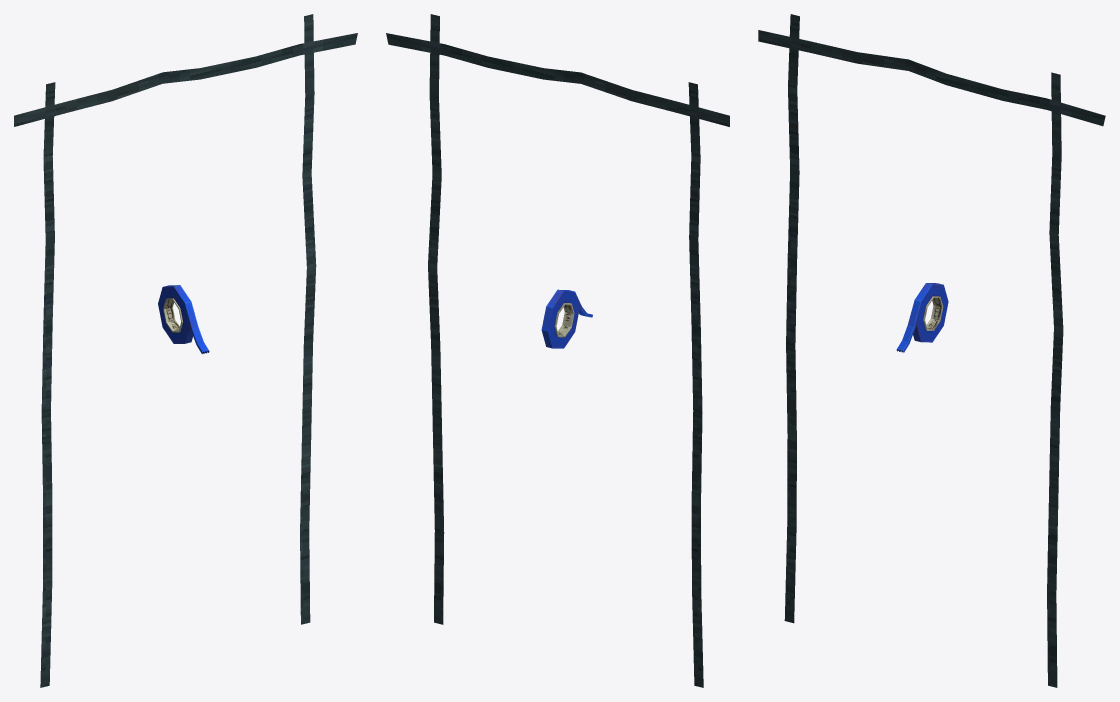
File: item_painters_tape.glb
The picture shows the model from 3 angles, left to right: view 1: azimuth 30°, elevation 25°; view 2: azimuth 150°, elevation 25°; view 3: azimuth 330°, elevation 25°; orthographic projection.
Parts seen in each view (by area): view 1: Plane.003, paintersTape_01; view 2: Plane.003, paintersTape_01; view 3: Plane.003, paintersTape_01.
Part boxes in pixels (x1=…): Plane.003: x1=14, y1=14, x2=357, y2=687; paintersTape_01: x1=158, y1=285, x2=209, y2=354; Plane.003: x1=386, y1=14, x2=729, y2=687; paintersTape_01: x1=541, y1=289, x2=592, y2=348; Plane.003: x1=758, y1=14, x2=1105, y2=687; paintersTape_01: x1=896, y1=283, x2=948, y2=352.
Size of the model in its own units: 1.25 by 2.12 by 0.2844.
Materials: 2 (2 with a texture image).
